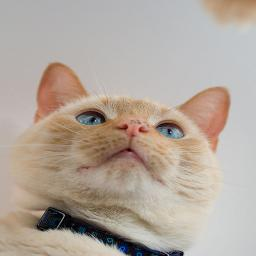catnose: (114, 116, 150, 136)
